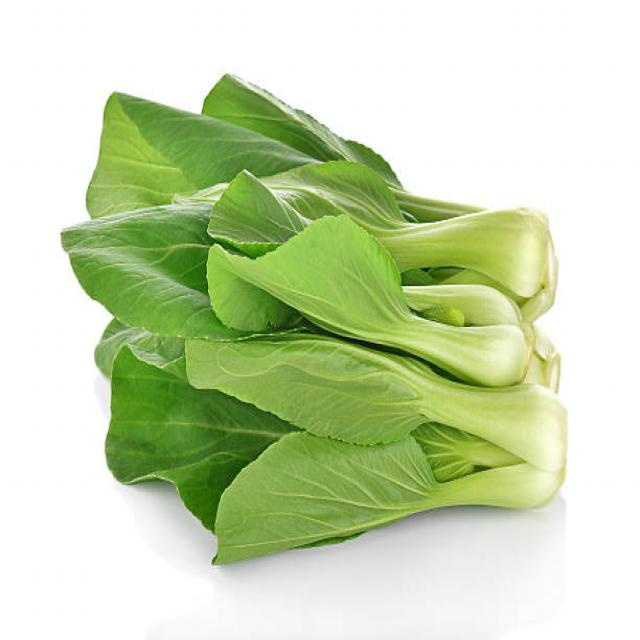bok choy: (96, 76, 564, 360), (174, 366, 584, 594)
